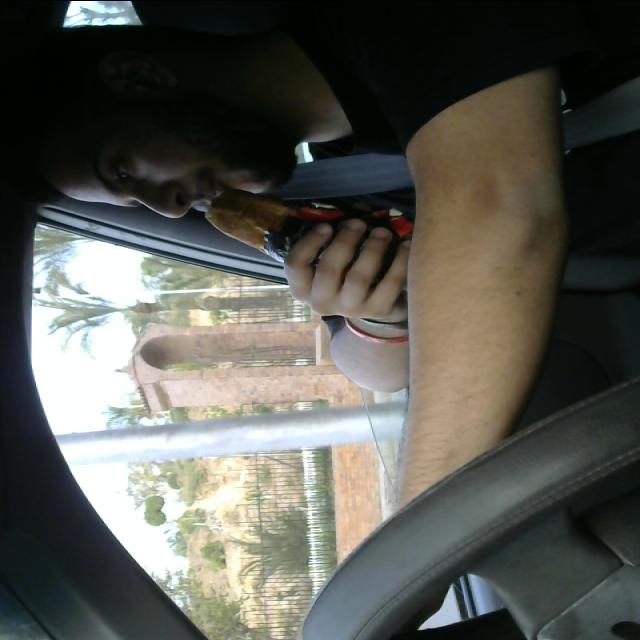eating: (191, 181, 474, 275)
